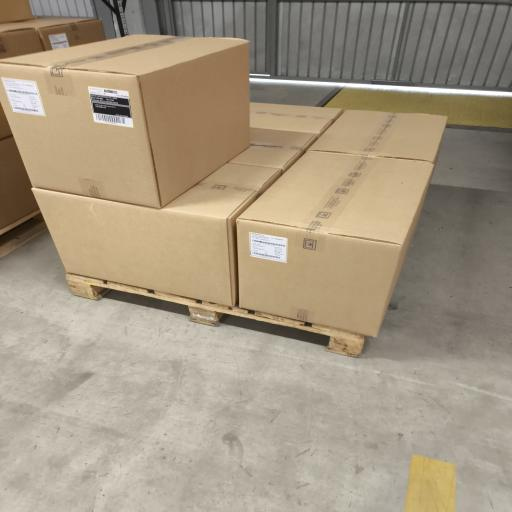pallet: (67, 274, 365, 356), (0, 210, 47, 257)
